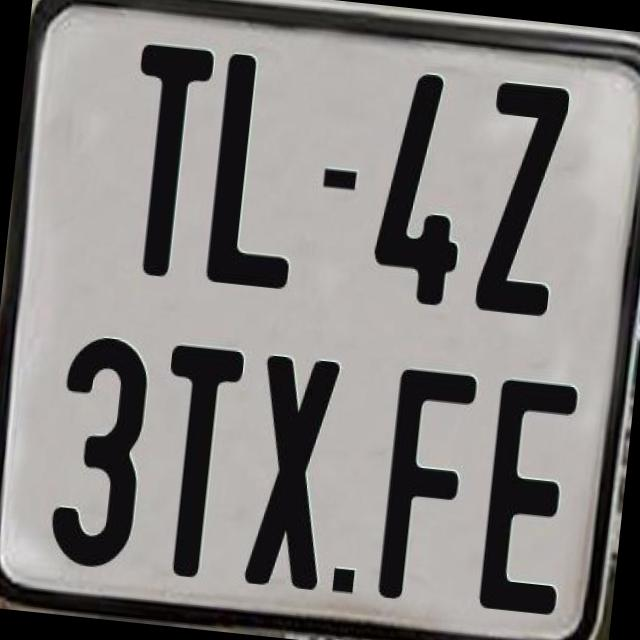3: (46, 330, 158, 572)
4: (368, 70, 482, 307)
E: (473, 377, 579, 615)
F: (377, 364, 481, 602)
L: (205, 53, 316, 290)
T: (116, 41, 218, 282), (146, 342, 245, 588)
X: (238, 352, 344, 590)
Z: (472, 81, 572, 323)
